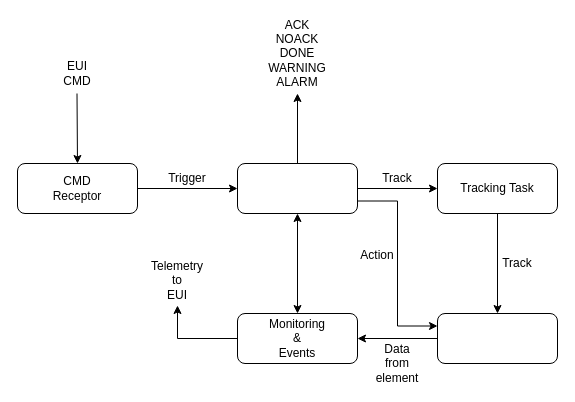
The diagram is 575 pixels wide and 402 high, and some of its shapes have lost their labels. The box of each missing label's shape, as (x1, y1, x2, y2) in pixels:
Bosch System: (436, 312, 558, 364)
Statechart: (236, 162, 358, 214)
